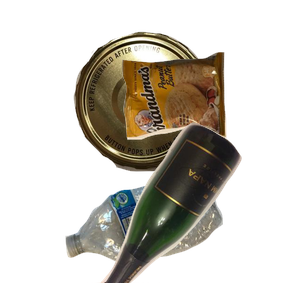glass: (87, 120, 300, 300)
metal: (71, 29, 276, 193)
plastic: (63, 170, 278, 300)
trash: (120, 50, 300, 182)
